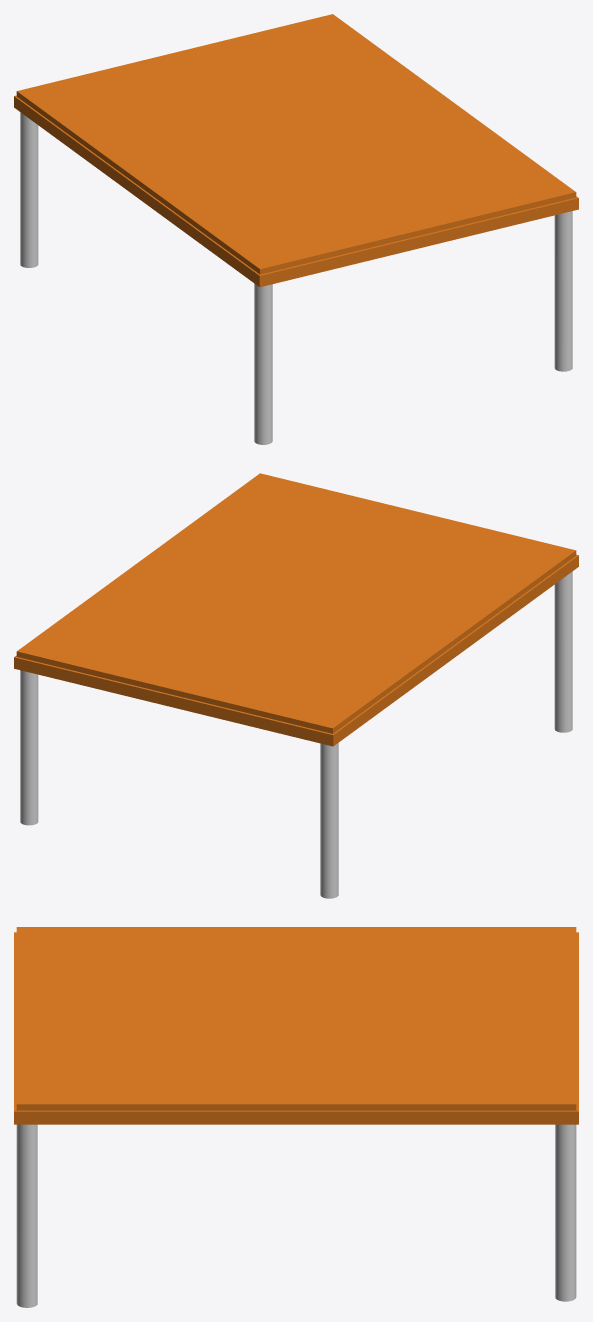
The model's file is table_pp.fbx.
The picture shows the model from 3 angles, top to bottom: view 1: azimuth 30°, elevation 25°; view 2: azimuth 150°, elevation 25°; view 3: azimuth 270°, elevation 25°; orthographic projection. The views are drawn at different scales.
Parts seen in each view (by area): view 1: Cube; view 2: Cube; view 3: Cube.
Boxes of the visible parts, bbox=[...] form: Cube: bbox=[14, 14, 578, 444]; Cube: bbox=[14, 473, 578, 898]; Cube: bbox=[14, 927, 578, 1307].
Bounding box in the file's own units: 199 × 105 × 265.
